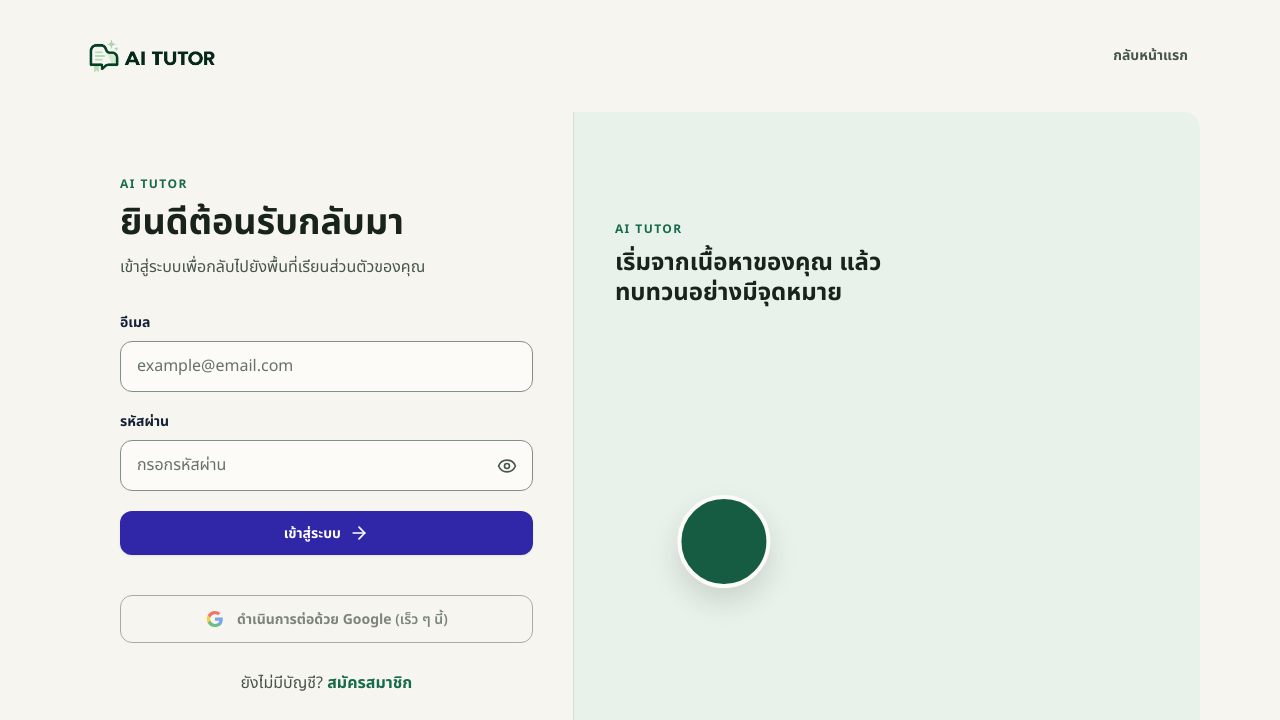
Scenario: LoginPage › keeps an invalid-credential response combined and non-enumerating
Type "student@example.com" into the field labelled "อีเมล" at point(326, 366), box [120,341,533,392]
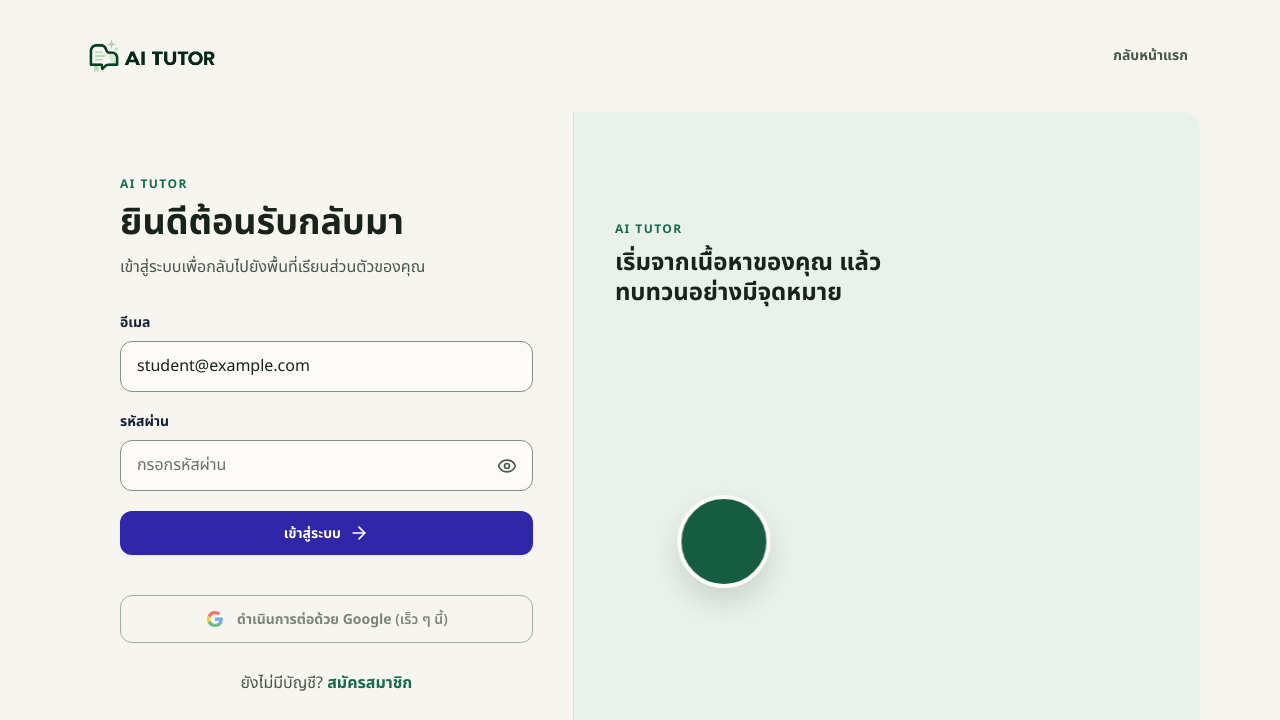
Type "learning123" into the password field labelled "รหัสผ่าน" at point(326, 466), box [120,440,533,491]
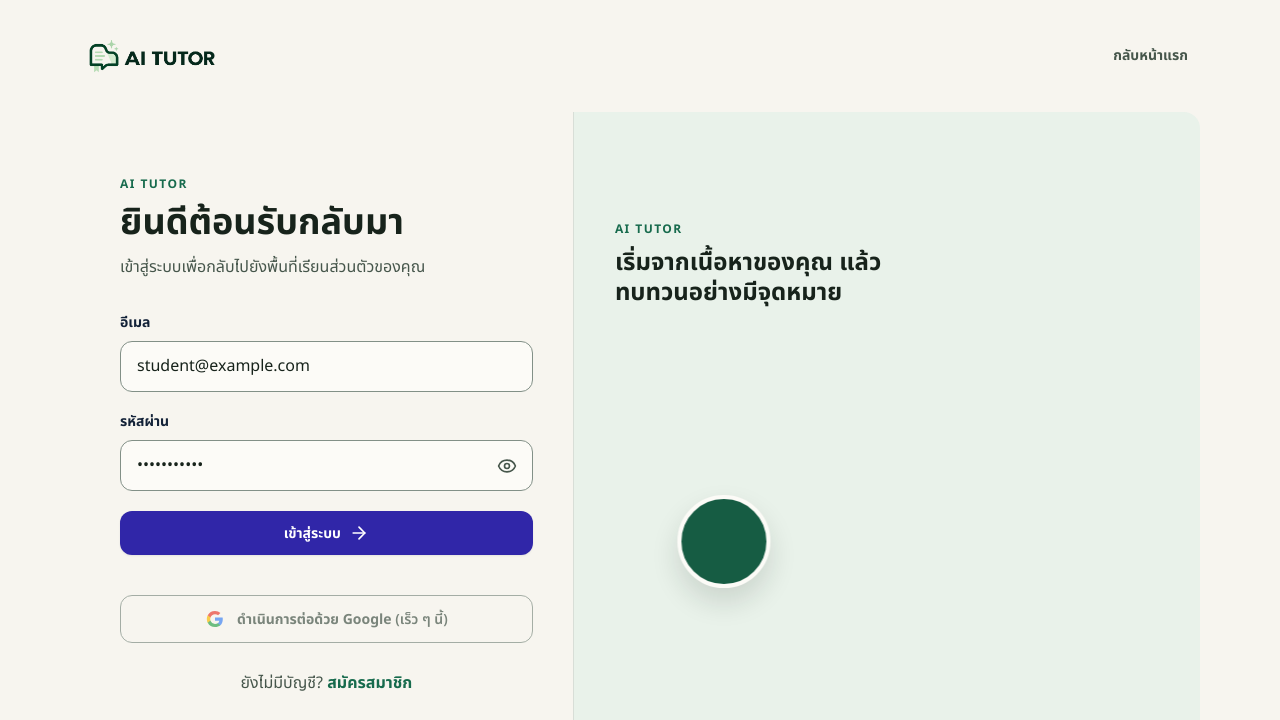
Click the button "เข้าสู่ระบบ" at point(326, 533), box [120,511,533,555]
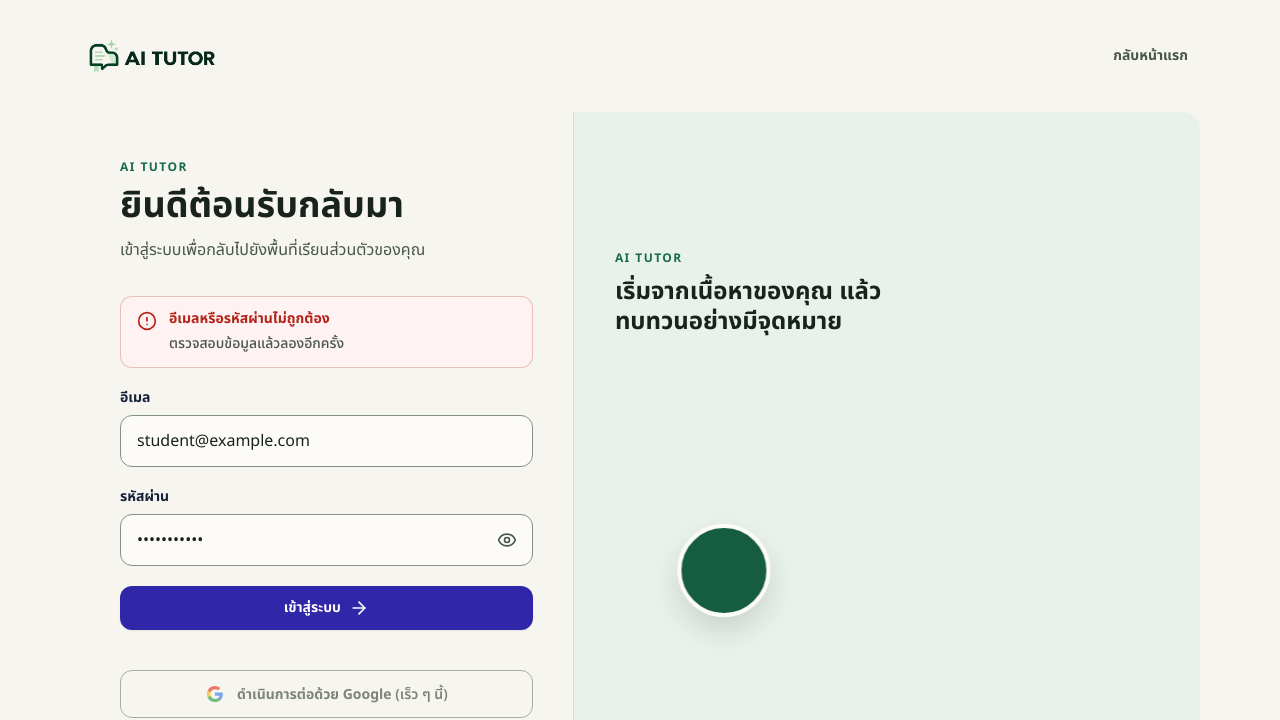
Expected: the message does not show "กรุณาเข้าสู่ระบบอีกครั้ง", [120,296,533,368]
Now the message shows "อีเมลหรือรหัสผ่านไม่ถูกต้อง", box [169,308,330,329]
Now the message shows "ตรวจสอบข้อมูลแล้วลองอีกครั้ง", box [169,333,344,354]
